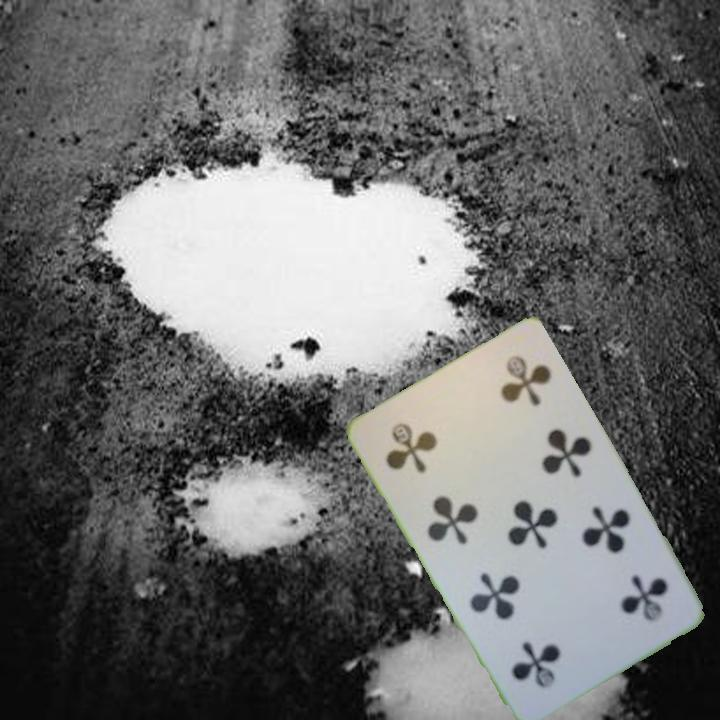c_9.png: (363, 382, 491, 505), (564, 538, 691, 661)
